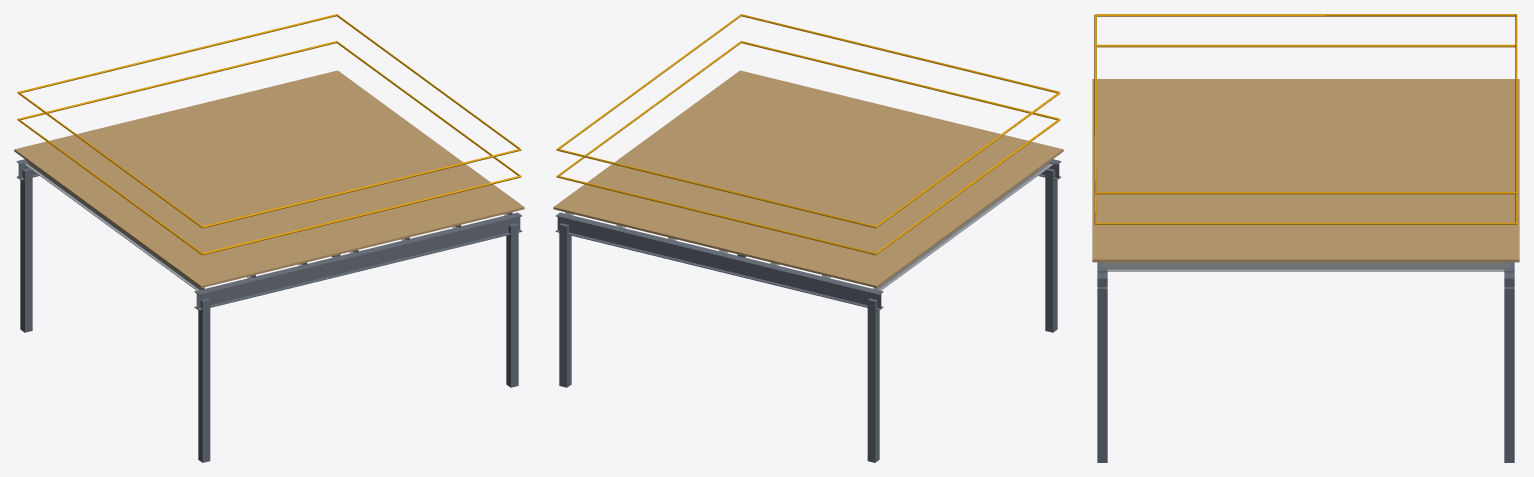
Rendered from industrial.handling.mezzanine.glb.
3 views of the same model, side by side, from view 1: azimuth 30°, elevation 25°; view 2: azimuth 150°, elevation 25°; view 3: azimuth 270°, elevation 25° (orthographic). The views are drawn at different scales.
Parts seen in each view (by area): view 1: main__plywood, main__steel_painted, main__plant_yellow, main__steel_galvanised; view 2: main__plywood, main__steel_painted, main__plant_yellow, main__steel_galvanised; view 3: main__plywood, main__plant_yellow, main__steel_painted, main__steel_galvanised.
Boxes of the visible parts, bbox=[...] form: main__plywood: bbox=[14, 70, 524, 287]; main__steel_painted: bbox=[16, 159, 522, 462]; main__plant_yellow: bbox=[17, 14, 521, 255]; main__steel_galvanised: bbox=[24, 160, 512, 290]; main__plywood: bbox=[553, 70, 1063, 287]; main__steel_painted: bbox=[555, 159, 1061, 462]; main__plant_yellow: bbox=[556, 14, 1060, 255]; main__steel_galvanised: bbox=[565, 160, 1053, 290]; main__plywood: bbox=[1092, 79, 1519, 262]; main__plant_yellow: bbox=[1094, 14, 1517, 224]; main__steel_painted: bbox=[1097, 262, 1514, 462]; main__steel_galvanised: bbox=[1102, 262, 1509, 271].
Bounding box in the file's own units: 6.3 × 4.42 × 6.3.
